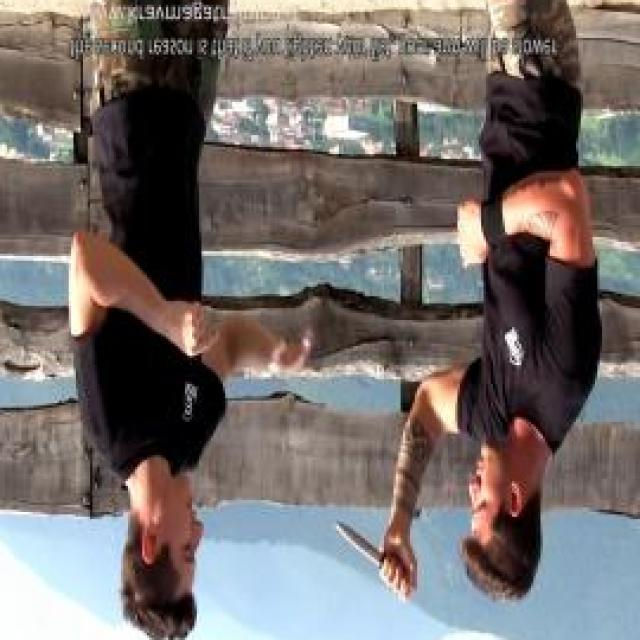knife: (330, 518, 420, 604)
